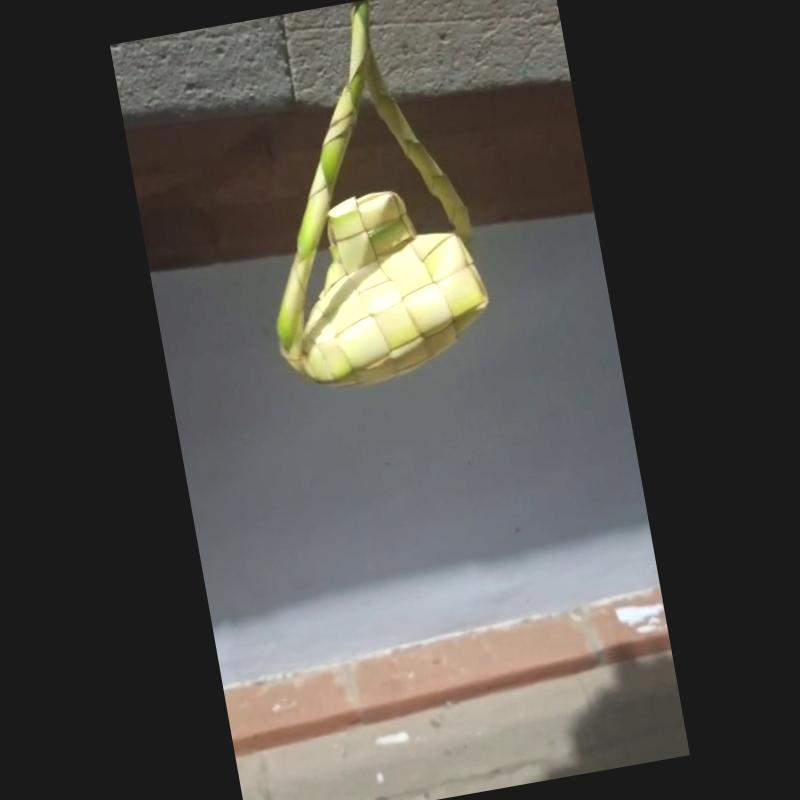Tipat Gong: (273, 0, 495, 395)
